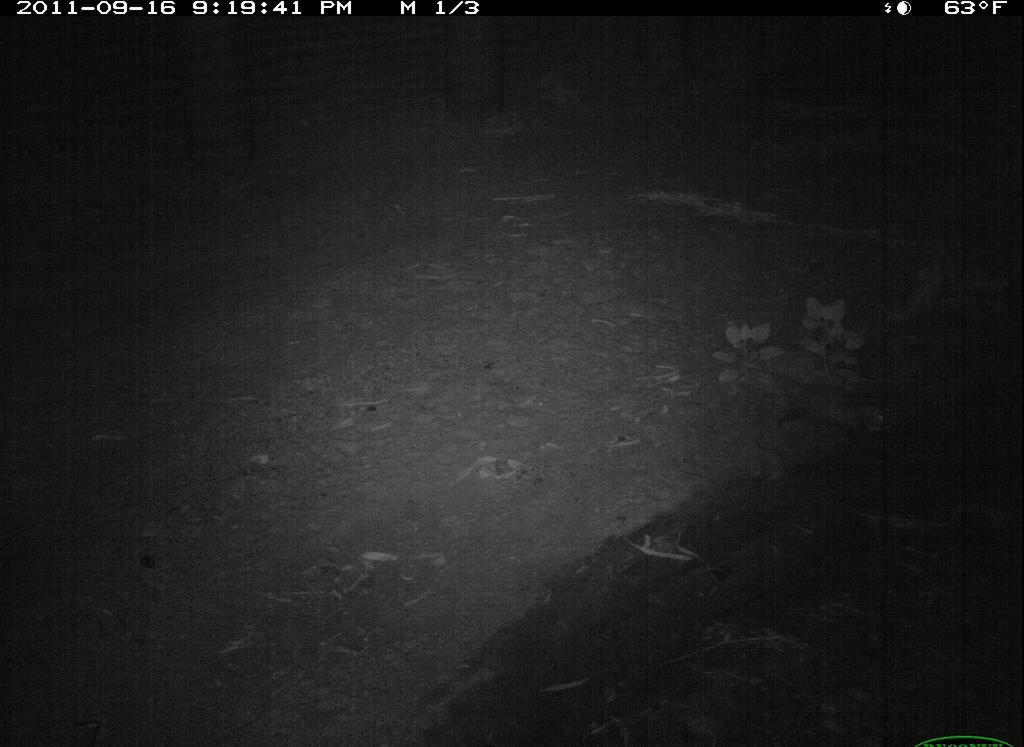opossum: (765, 364, 891, 452)
